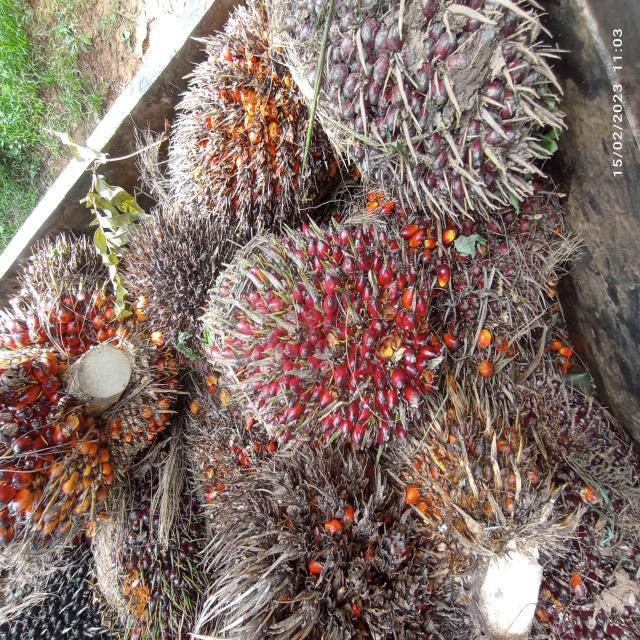fraksi 1: (274, 0, 582, 213)
fraksi 3: (172, 162, 491, 481), (0, 269, 191, 552)
fraksi 4: (241, 437, 471, 640), (130, 7, 332, 210)
